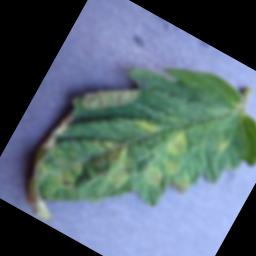Leaf_Mold: (76, 128, 145, 193), (141, 149, 198, 201), (164, 126, 195, 162), (131, 113, 163, 139), (213, 134, 233, 155)
